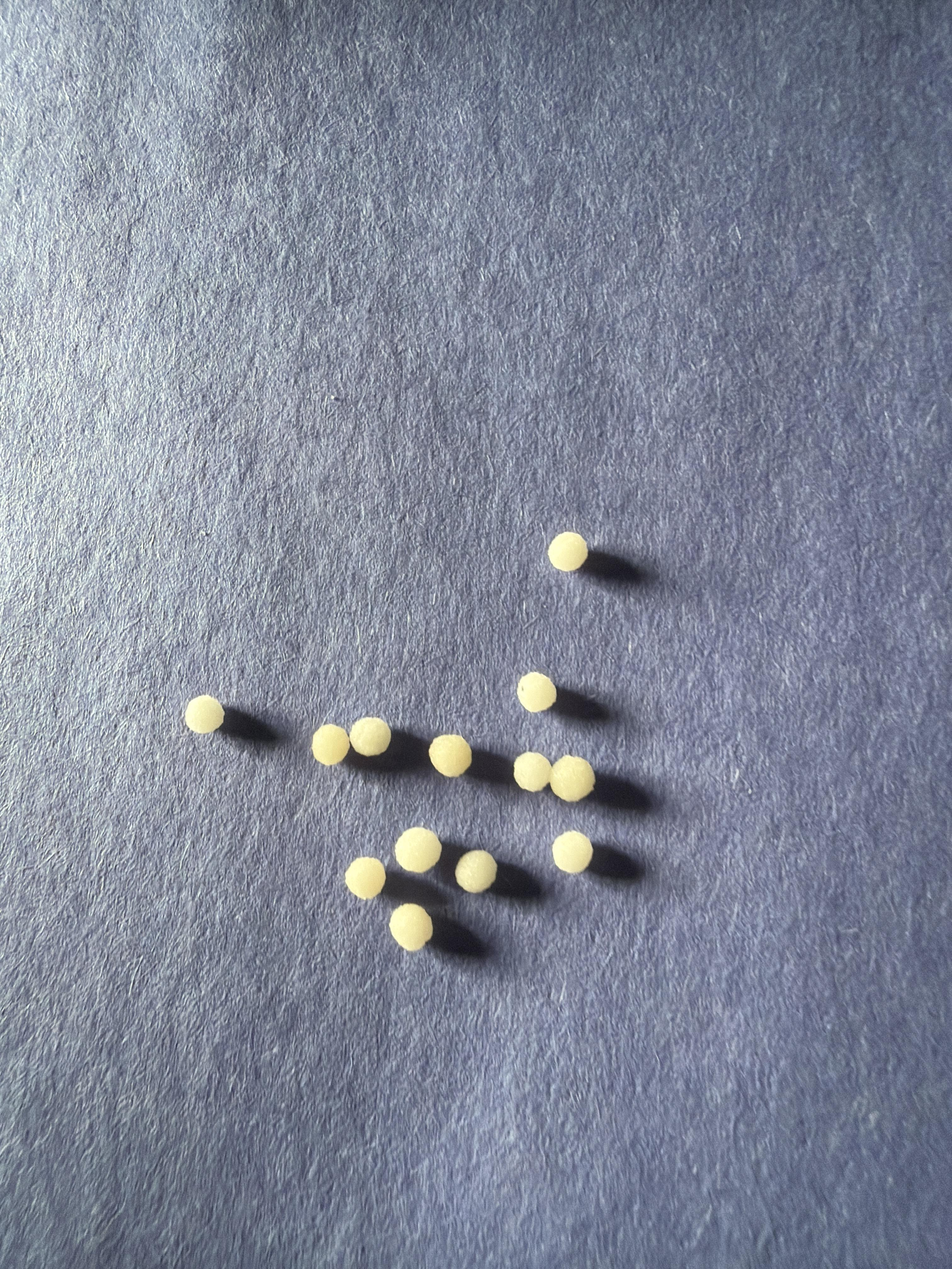pill: (312, 717, 390, 765), (395, 826, 441, 873), (549, 756, 595, 802), (389, 903, 433, 951), (429, 735, 472, 777), (345, 857, 386, 900), (455, 850, 496, 893), (552, 831, 593, 873), (517, 672, 557, 713), (349, 717, 391, 756), (513, 751, 552, 792), (548, 532, 588, 571), (185, 695, 224, 734), (312, 725, 350, 765)
